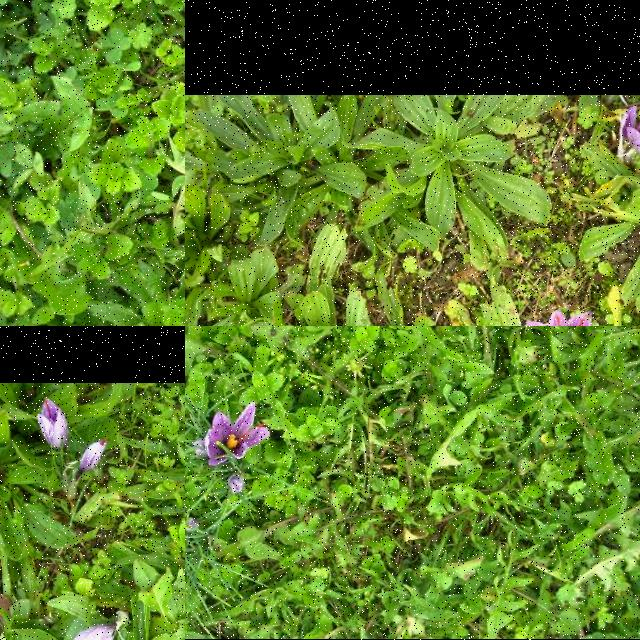flower: (206, 402, 270, 468), (38, 398, 68, 450), (623, 102, 640, 160), (56, 625, 114, 640), (80, 440, 106, 472), (228, 474, 246, 494)
